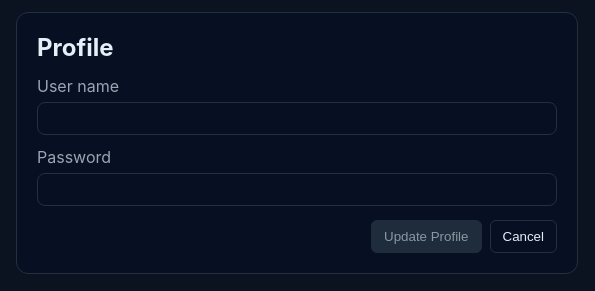
Test: ProfileComponent › Update button is disabled
Expected: the button "Update Profile" is disabled, [371, 220, 482, 253]
Type "alice" into the field labelled "User name" at (297, 118), box [37, 102, 557, 135]
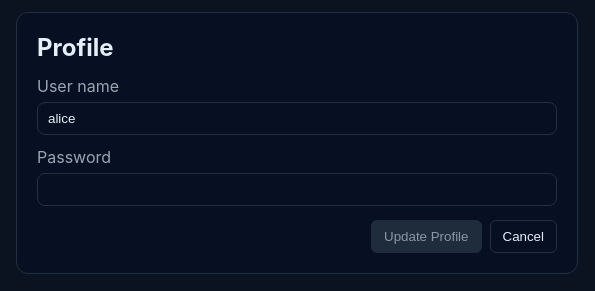
Expected: the button "Update Profile" is disabled, [371, 220, 482, 253]
Type "secret" into the password field labelled "Password" at (297, 190), box [37, 173, 557, 206]
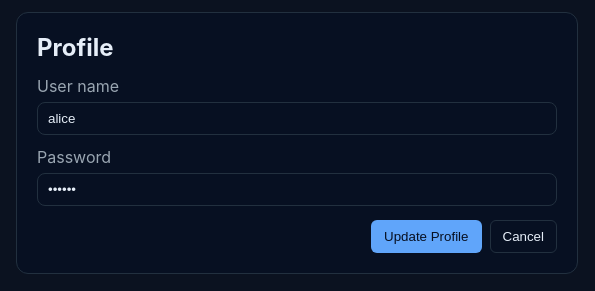
Expected: the button "Update Profile" is enabled, [371, 220, 482, 253]
